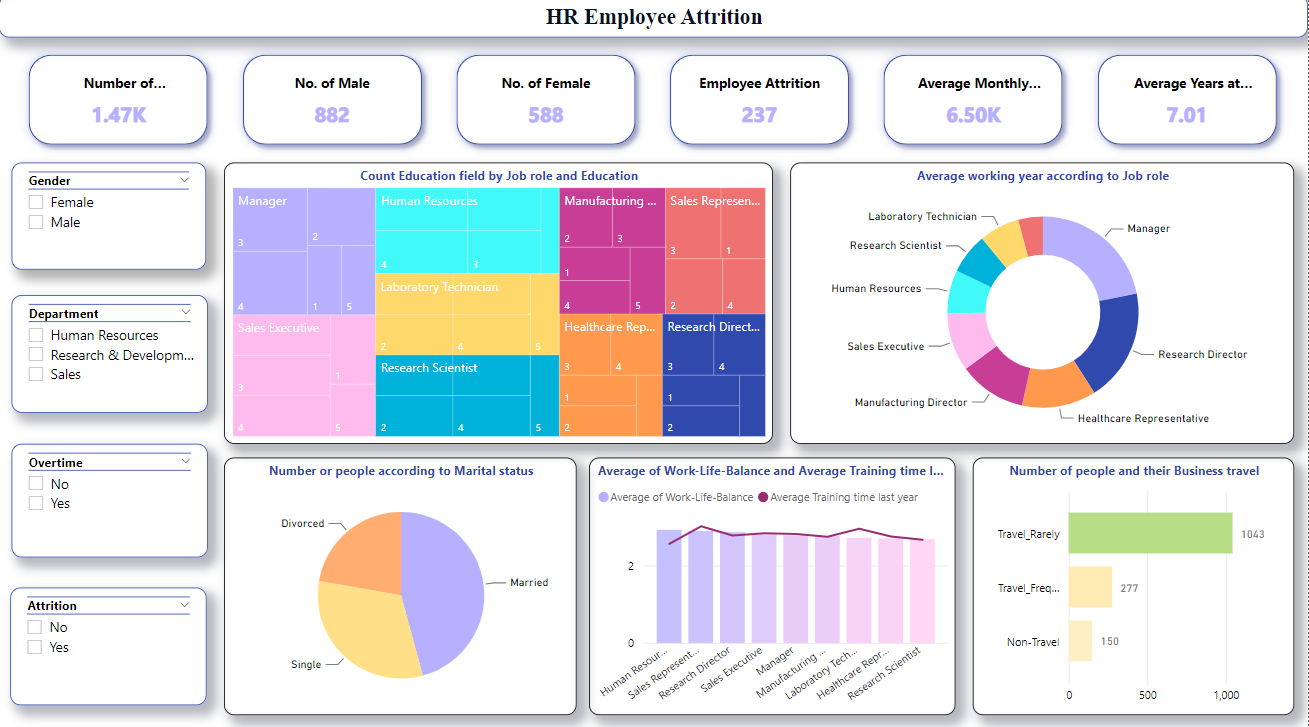

The dashboard page shown, as its layout file describes it:
{"tool":"powerbi","page":{"name":"Page 2","canvas":[1280,720],"ordinal":1},"visuals":[{"type":"cardVisual","fields":{"Data":["Count(HR-Employee-Attrition.S. No.)","HR-Employee-Attrition.No. of Male and Female","HR-Employee-Attrition.No. of Female","HR-Employee-Attrition.Employee who left","Avg(HR-Employee-Attrition.Monthly_Income)","Avg(HR-Employee-Attrition.Years_At_Company)"]},"box":[12.2,41.6,1254.2,122.2],"z":0},{"type":"textbox","box":[0,0,1279.9,41.6],"z":1000},{"type":"slicer","fields":{"Values":["HR-Employee-Attrition.Gender"]},"box":[12.2,163.8,190.7,105.1],"z":2000},{"type":"slicer","fields":{"Values":["HR-Employee-Attrition.Department"]},"box":[12.2,293.4,191.9,114.9],"z":3000},{"type":"slicer","fields":{"Values":["HR-Employee-Attrition.Overtime"]},"box":[12.2,438.8,191.9,111.2],"z":4000},{"type":"slicer","fields":{"Values":["HR-Employee-Attrition.Attrition"]},"box":[11,579.4,191.9,114.9],"z":5000},{"type":"treemap","title":"Count Education field by Job role and Education","fields":{"Group":["HR-Employee-Attrition.Job_Role"],"Values":["Count(HR-Employee-Attrition.Education_Field)"],"Details":["HR-Employee-Attrition.Education"]},"box":[220,163.8,536.6,275],"z":6000},{"type":"donutChart","title":"Average working year according to Job role","fields":{"Category":["HR-Employee-Attrition.Job_Role"],"Y":["Avg(HR-Employee-Attrition.Total_Working_Years)"]},"box":[773.8,163.8,492.6,275],"z":7000},{"type":"pieChart","title":"Number or people according to Marital status","fields":{"Category":["HR-Employee-Attrition.Marital_Status"],"Y":["Count(HR-Employee-Attrition.S. No.)"]},"box":[220,452.3,344.7,251.8],"z":8000},{"type":"lineClusteredColumnComboChart","fields":{"Category":["HR-Employee-Attrition.Job_Role"],"Y":["Avg(HR-Employee-Attrition.Work_Life_Balance)"],"Y2":["Avg(HR-Employee-Attrition.Training_Time_Last_Year)"]},"box":[577,452.3,358.2,251.8],"z":9000},{"type":"clusteredBarChart","title":"Number of people and their Business travel","fields":{"Category":["HR-Employee-Attrition.Business_Travel"],"Y":["CountNonNull(HR-Employee-Attrition.S. No.)"]},"box":[952.3,452.3,314.2,251.8],"z":10000}]}

Visuals, with their boxes in screenshot pixels (x1, y1, x2, y2), scaled from the page's 1280x720 canvas onto the 1309x727 screenshot:
cardVisual - Count(HR-Employee-Attrition.S. No.) x HR-Employee-Attrition.No. of Male and Female: [left=12, top=42, right=1295, bottom=165]
textbox: [left=0, top=0, right=1308, bottom=42]
slicer - HR-Employee-Attrition.Gender: [left=12, top=165, right=207, bottom=272]
slicer - HR-Employee-Attrition.Department: [left=12, top=296, right=209, bottom=412]
slicer - HR-Employee-Attrition.Overtime: [left=12, top=443, right=209, bottom=555]
slicer - HR-Employee-Attrition.Attrition: [left=11, top=585, right=207, bottom=701]
"Count Education field by Job role and Education" treemap: [left=225, top=165, right=774, bottom=443]
"Average working year according to Job role" donutChart: [left=791, top=165, right=1295, bottom=443]
"Number or people according to Marital status" pieChart: [left=225, top=457, right=577, bottom=711]
lineClusteredColumnComboChart - HR-Employee-Attrition.Job_Role x Avg(HR-Employee-Attrition.Work_Life_Balance): [left=590, top=457, right=956, bottom=711]
"Number of people and their Business travel" clusteredBarChart: [left=974, top=457, right=1295, bottom=711]
